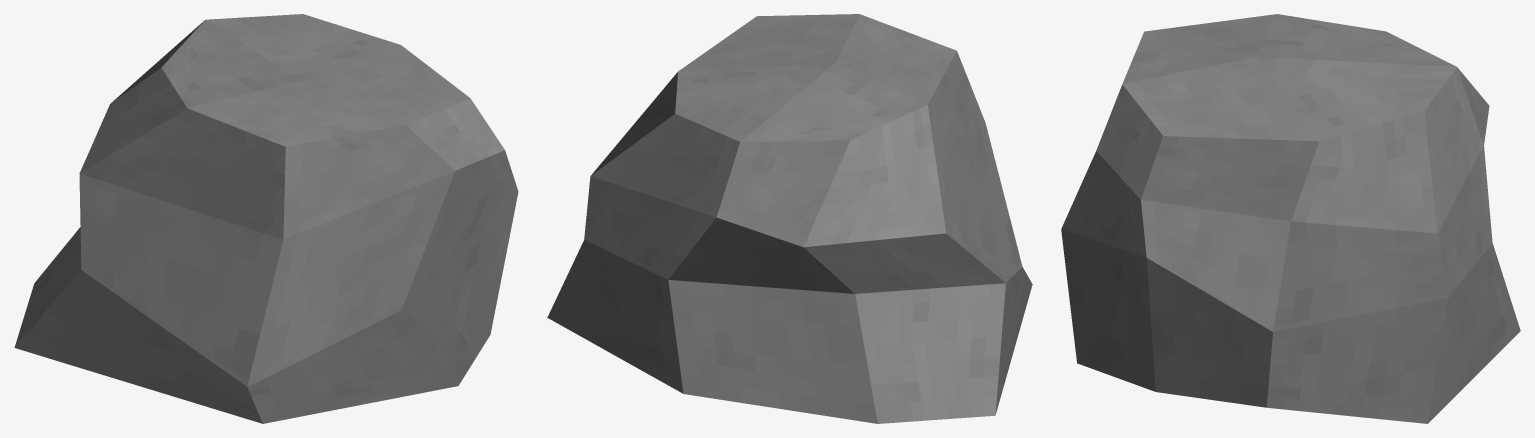
File: Stone1.fbx
The picture shows the model from 3 angles, left to right: view 1: azimuth 30°, elevation 25°; view 2: azimuth 150°, elevation 25°; view 3: azimuth 270°, elevation 25°; orthographic projection. The views are drawn at different scales.
Parts seen in each view (by area): view 1: stone1; view 2: stone1; view 3: stone1.
Boxes of the visible parts, box(x1,y1,x2,y2) form: stone1: box(14, 14, 518, 423); stone1: box(547, 14, 1032, 423); stone1: box(1061, 14, 1520, 423).
Size of the model in its own units: 1.41 by 0.8059 by 1.24.
